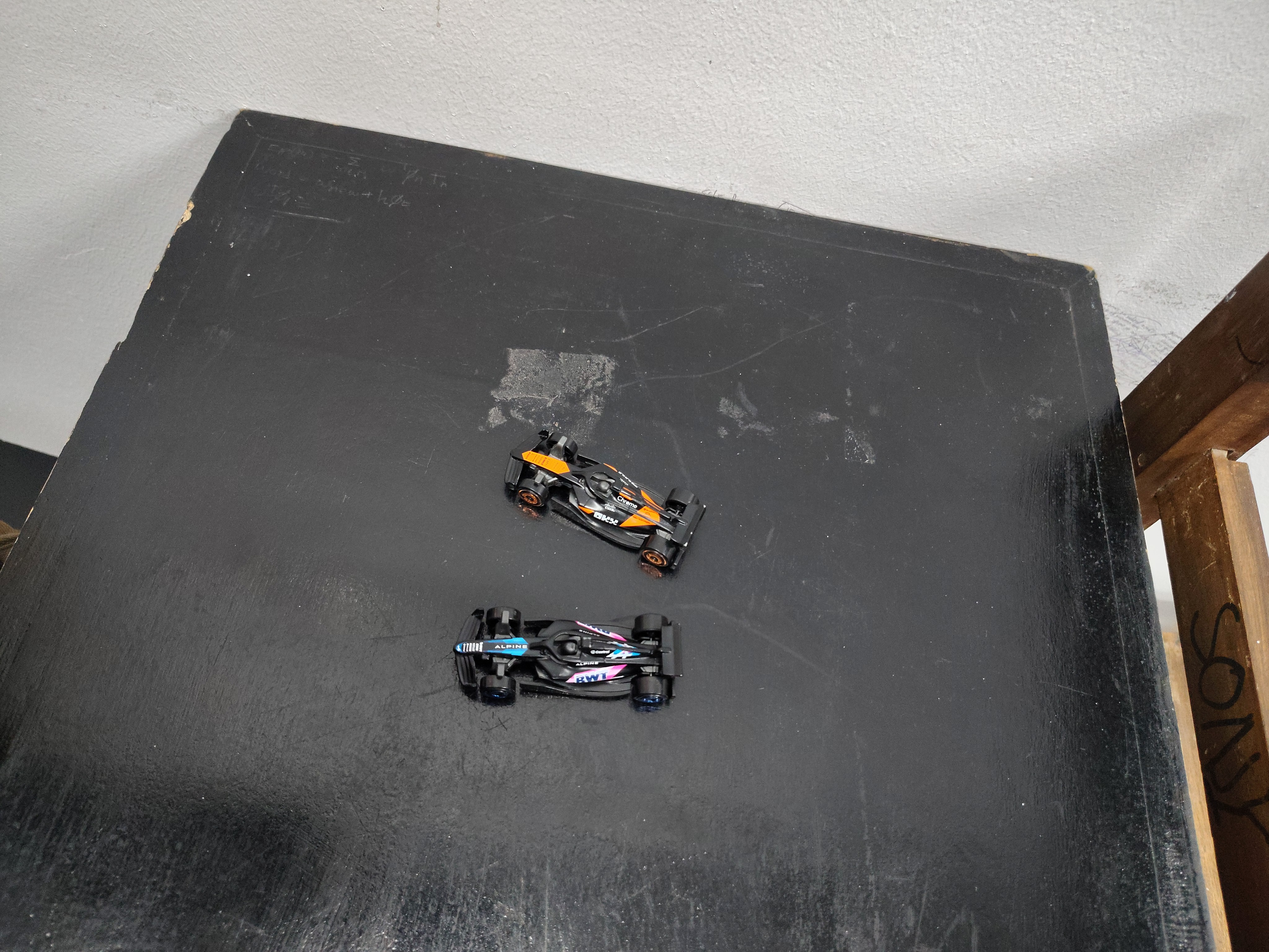Alpine A524: (407, 556, 736, 730)
McLaren MCL40: (441, 372, 742, 573)
